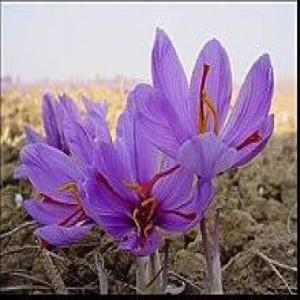Saffron: (133, 27, 276, 189), (87, 131, 210, 255), (22, 115, 121, 246)
